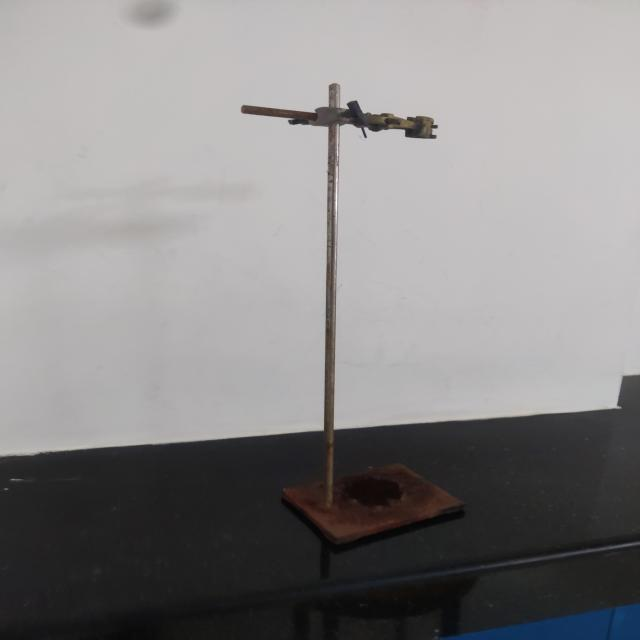Burette_Stands: (202, 68, 479, 560)
